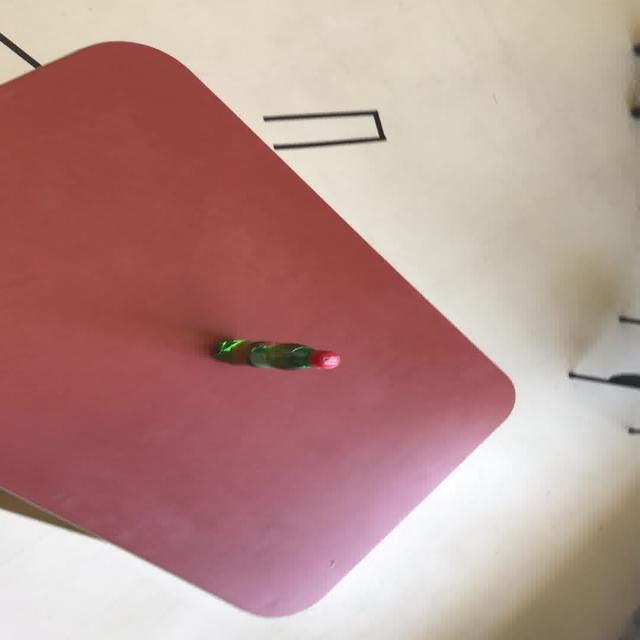guarana: (211, 338, 341, 370)
